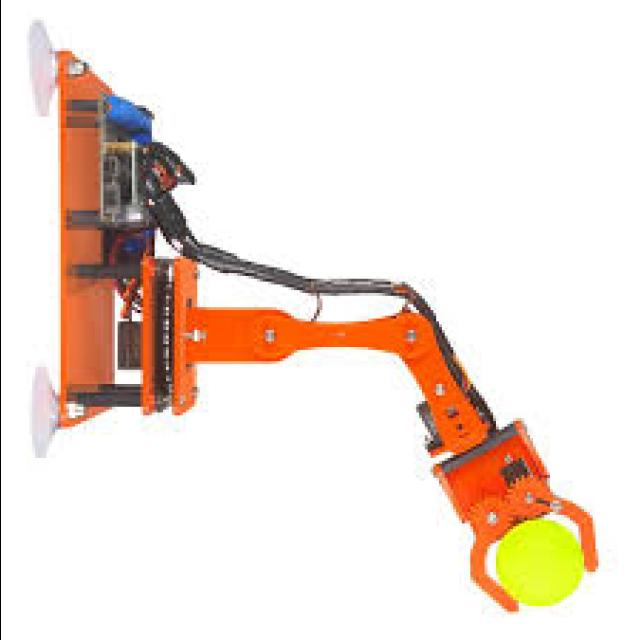Robotic-arm: (46, 47, 602, 628)
